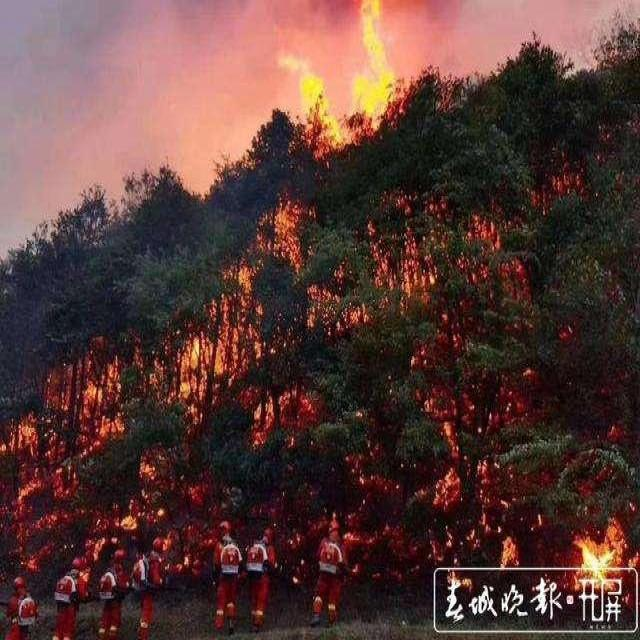fire: (282, 19, 403, 144), (577, 496, 636, 590), (178, 332, 266, 382)
other: (14, 537, 366, 624)
